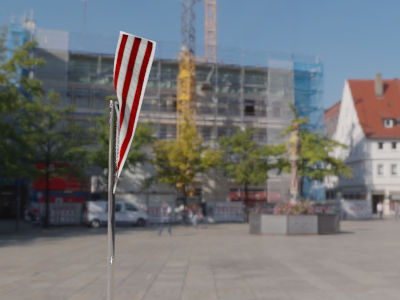America flag: (111, 27, 157, 193)
